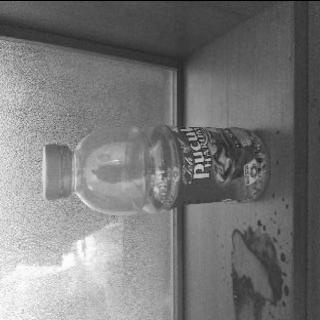plastic_bottles: (38, 120, 270, 220)
